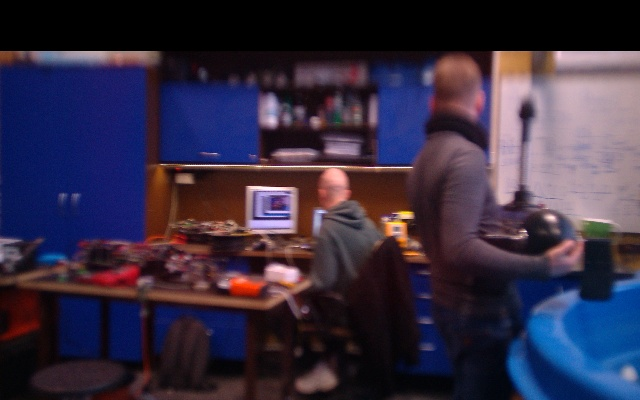black: (519, 138, 532, 187)
